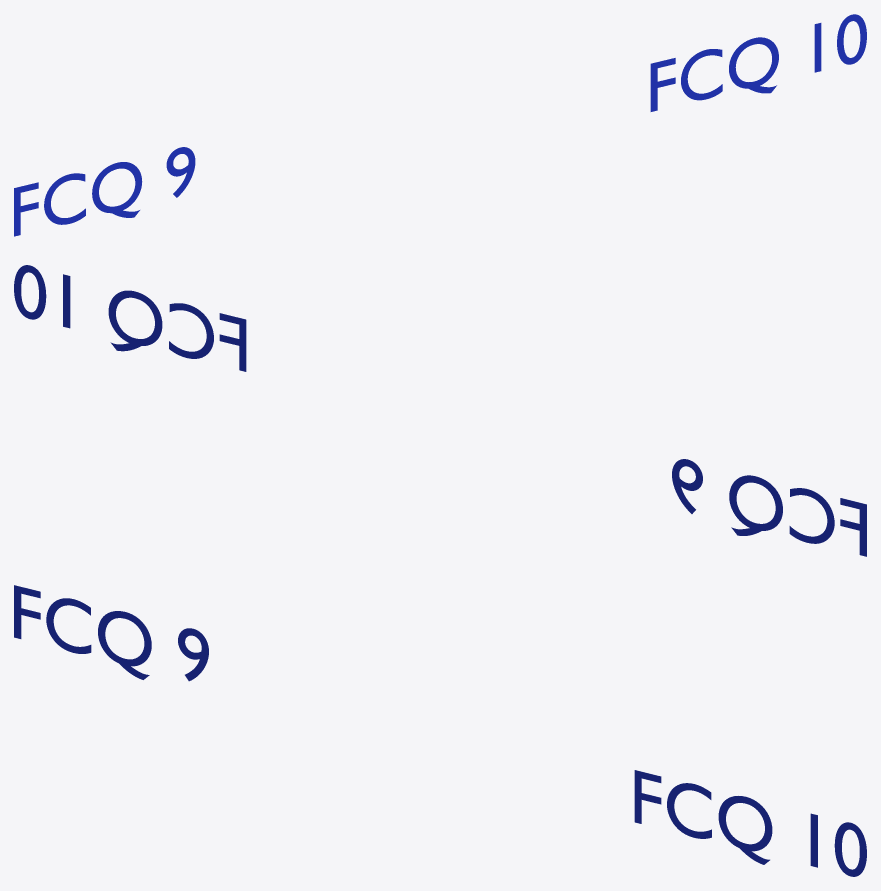
The model's file is facultadCienciasQuimicasII.gltf.
3 renders of one model, top to bottom at view 1: azimuth 30°, elevation 25°; view 2: azimuth 150°, elevation 25°; view 3: azimuth 330°, elevation 25°, orthographic. The views are drawn at different scales.
Parts seen in each view (by area): view 1: Text.121, Text.120; view 2: Text.121, Text.120; view 3: Text.121, Text.120.
Part boxes in pixels (box(x1,y1,x2,y2)): Text.121: box(650, 14, 866, 111); Text.120: box(14, 147, 195, 236); Text.121: box(14, 265, 246, 371); Text.120: box(672, 459, 866, 556); Text.121: box(634, 770, 866, 876); Text.120: box(14, 585, 208, 681).
Size of the model in its own units: 3.82 by 0.2624 by 0.2611.
